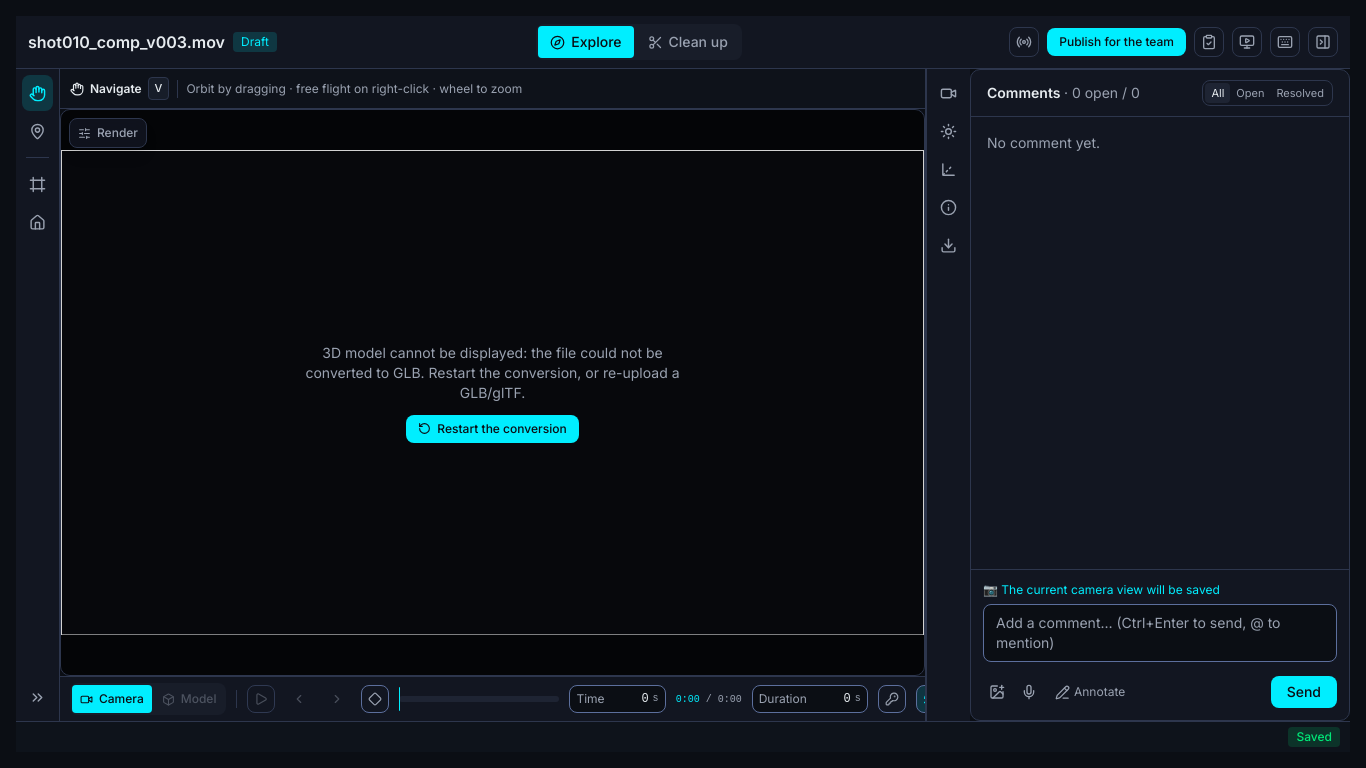
Test case: ReviewPage — 3D viewer chrome › keeps staging reachable: its switch is in the Camera panel
The width and height of the screenshot is (1366, 768).
expect the button named "Info" is shown: met, box [933, 189, 964, 225]
Click the button named "Camera".
click(948, 93)  # box [933, 75, 964, 111]
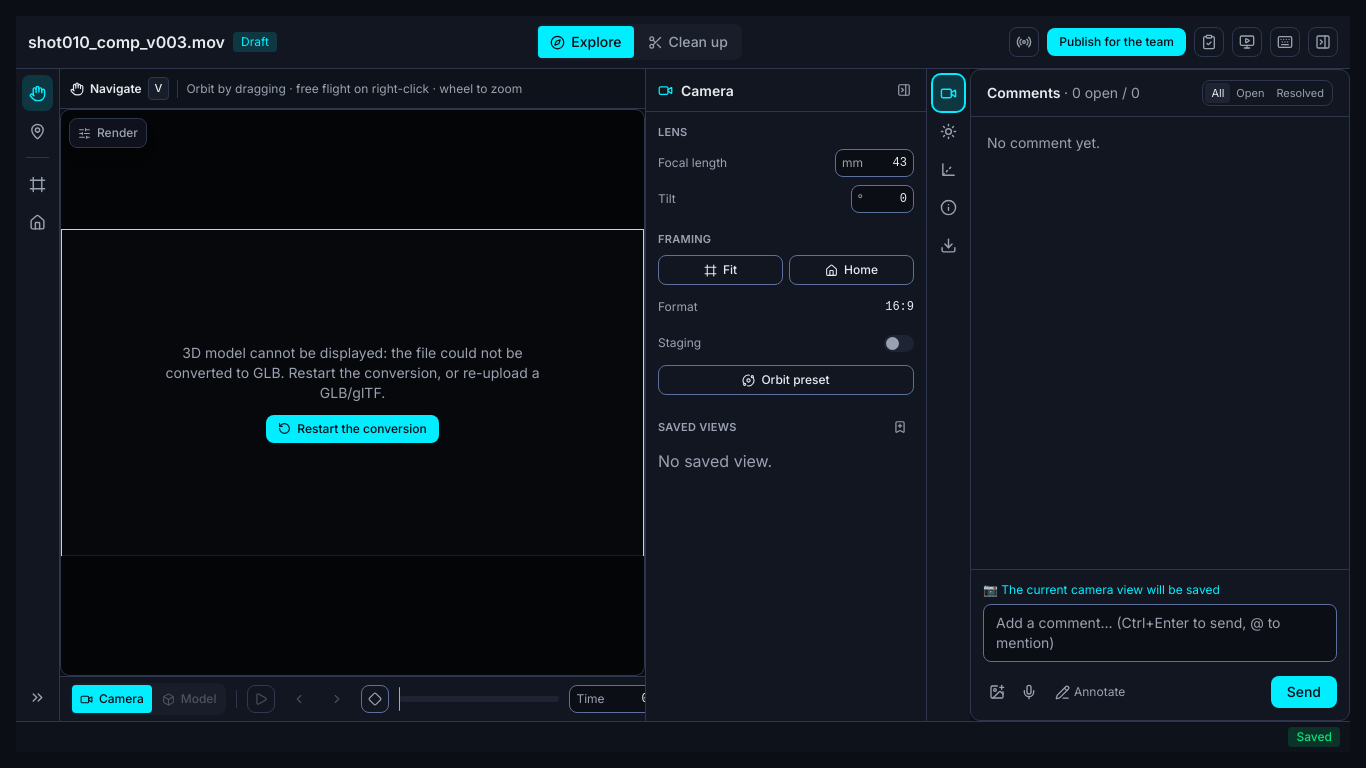
expect the text "Staging" is shown: met, box [658, 334, 701, 352]
expect the switch is shown: met, box [884, 334, 914, 352]
